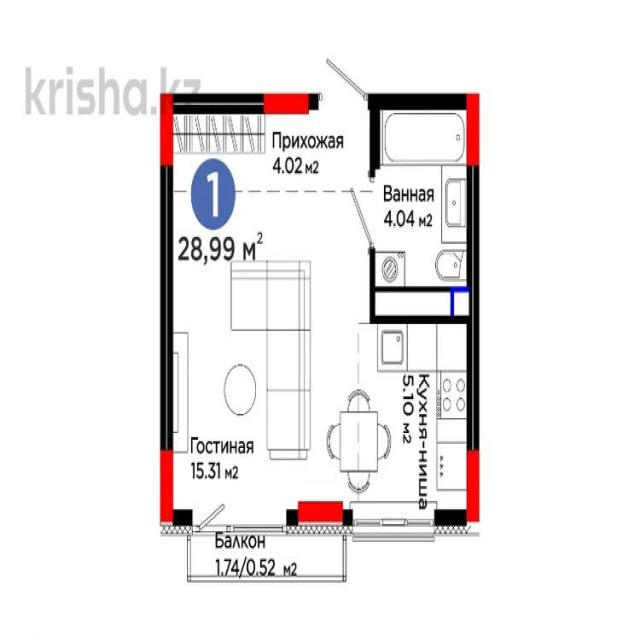balcony: (188, 527, 346, 580)
bathroom: (372, 101, 476, 319)
hallway: (165, 97, 374, 194)
studio: (163, 194, 478, 526)
